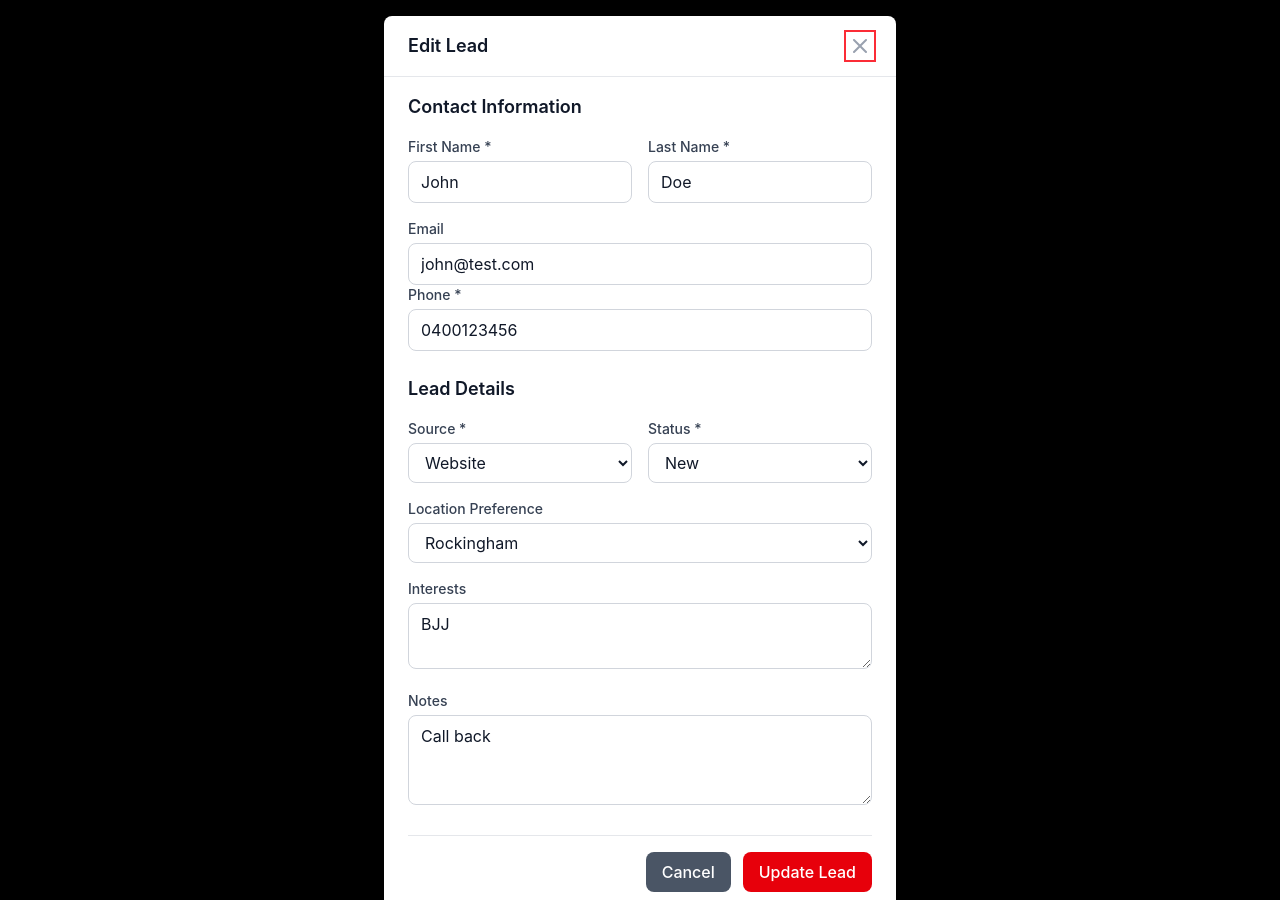
it: EditLeadModal › shows generic error when no response data
Click the button "Update Lead" at (807, 872), box x1=743 y1=852 x2=872 y2=892
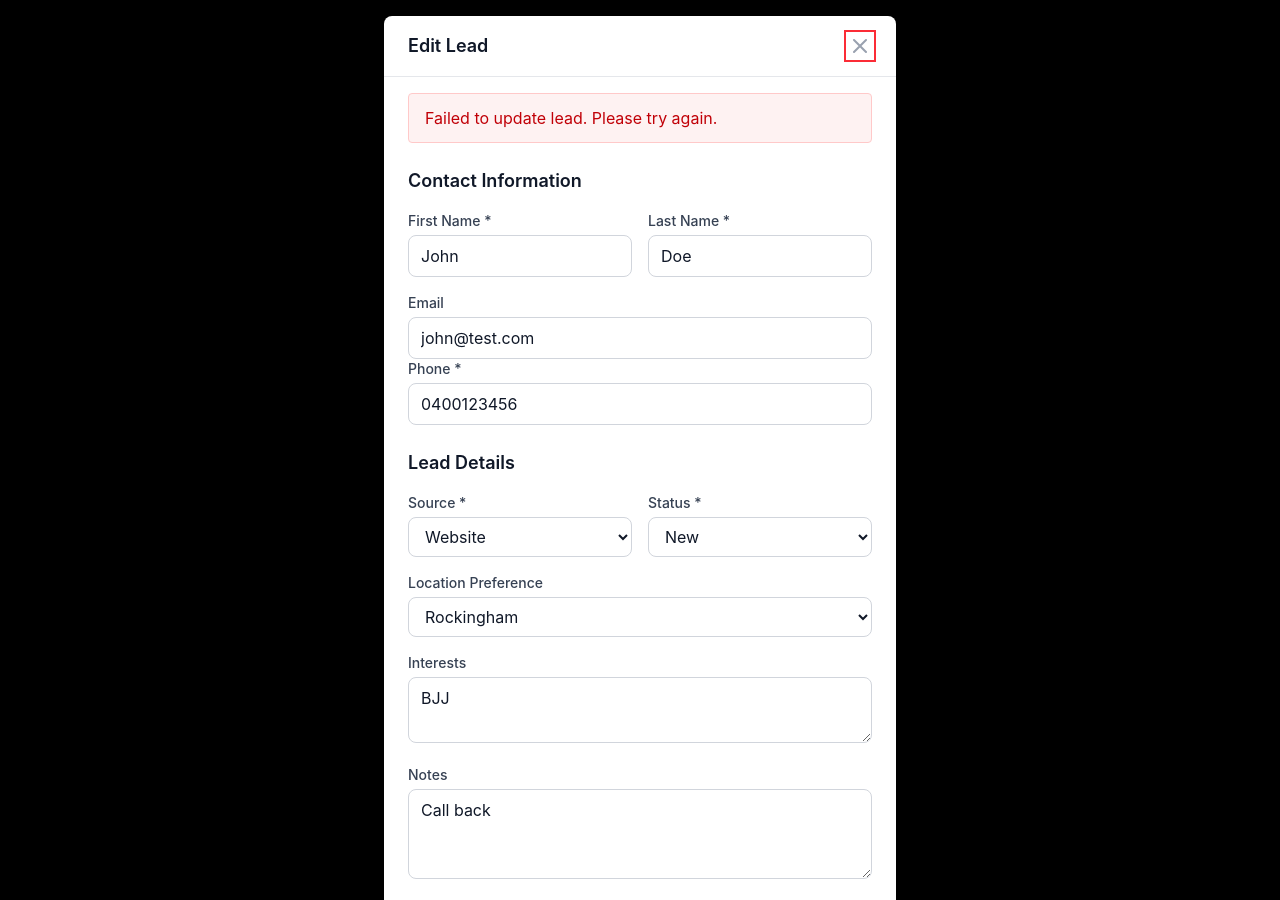
Result: the text "Failed to update lead. Please try again." is shown at x1=408 y1=93 x2=872 y2=143
